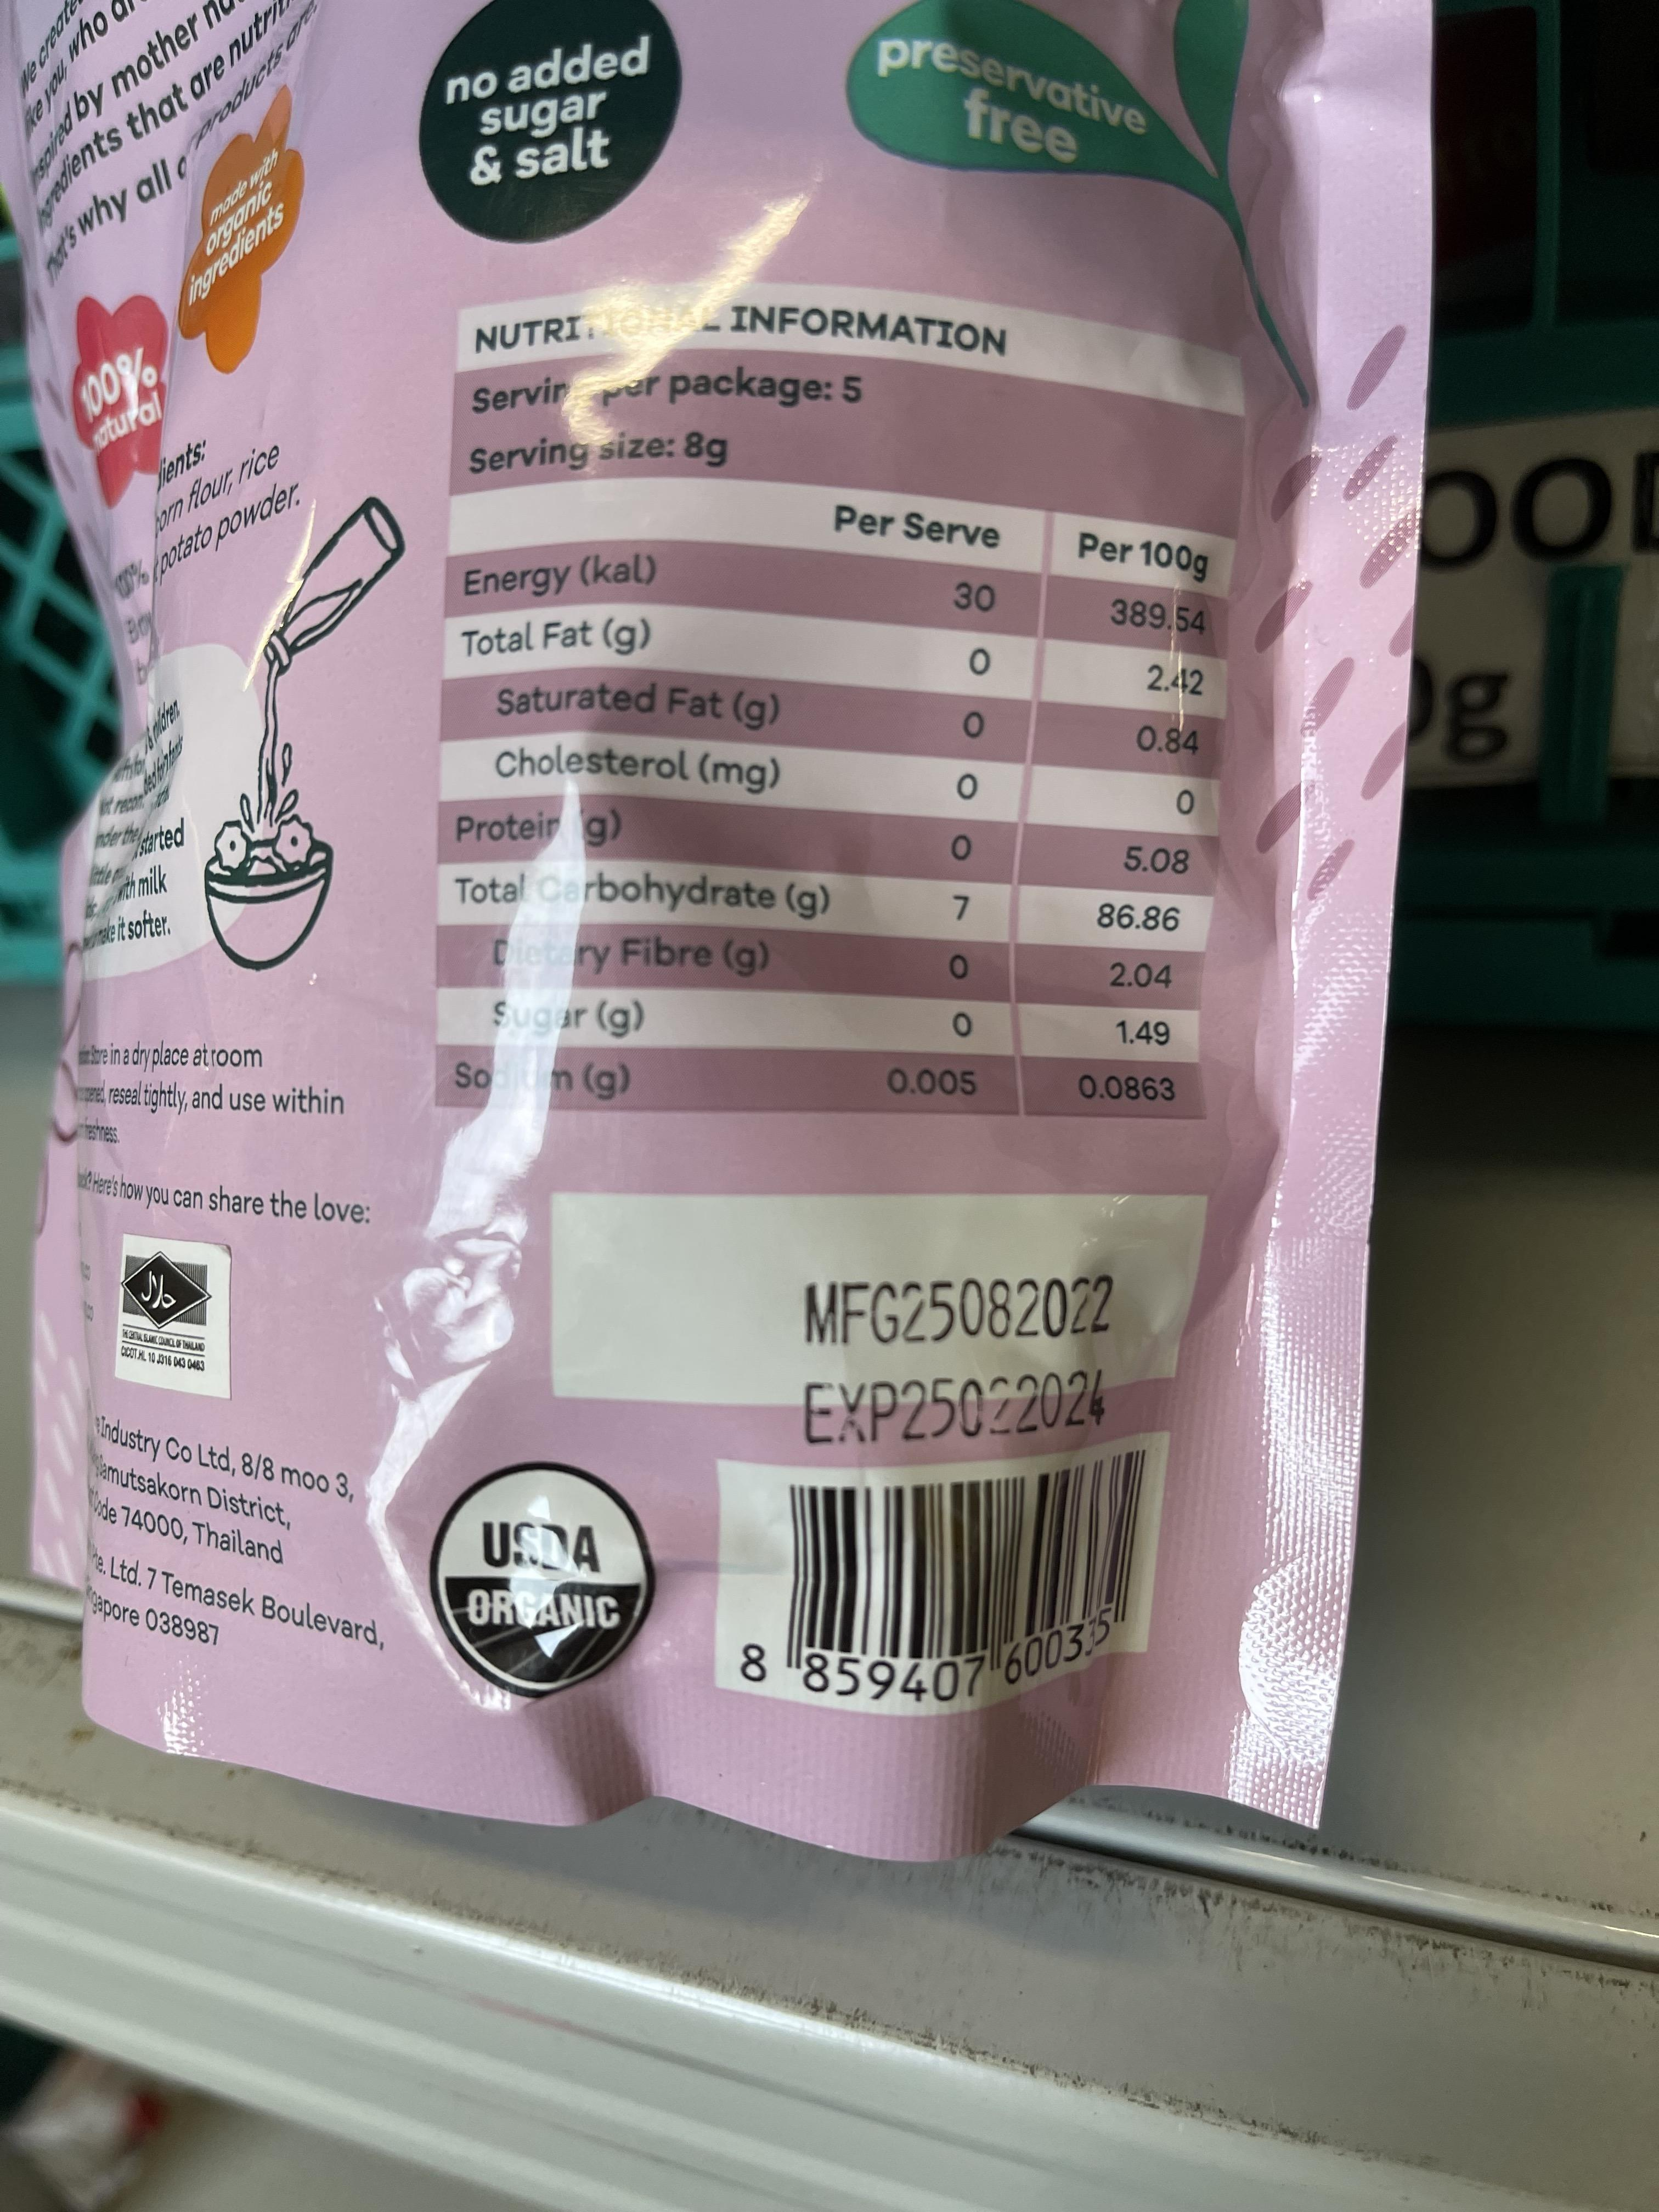object_name: (0, 0, 1317, 1761)
